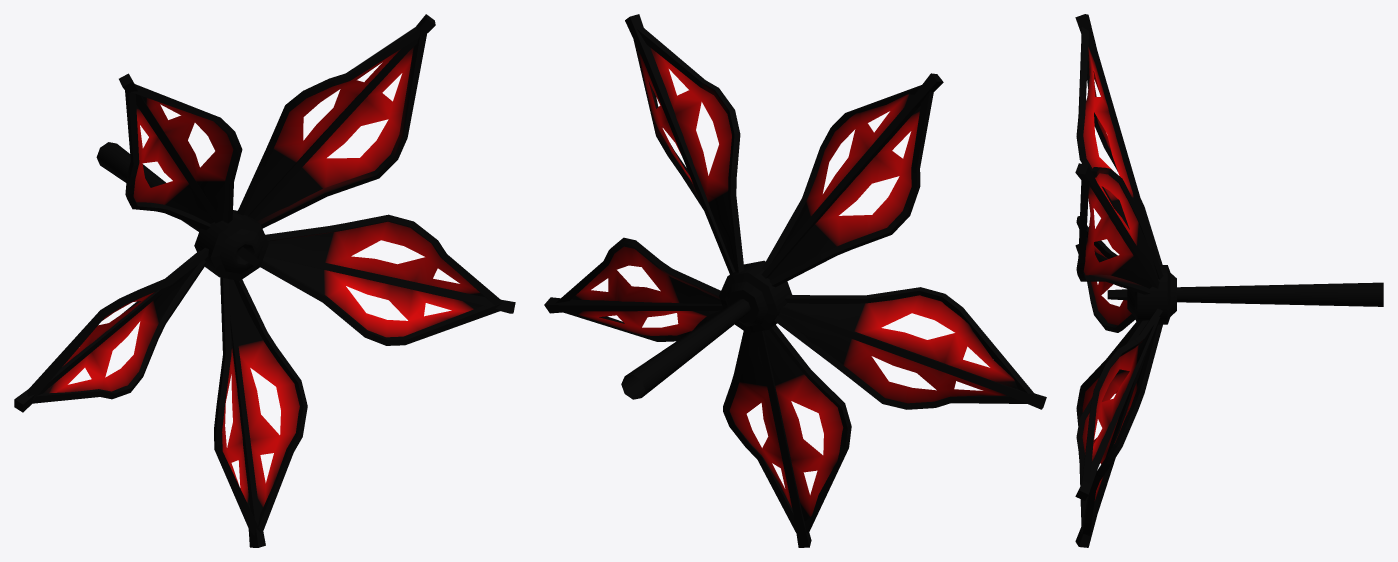
The model's file is SM_Windmill_Sails.fbx.
The picture shows the model from 3 angles, left to right: view 1: azimuth 30°, elevation 25°; view 2: azimuth 150°, elevation 25°; view 3: azimuth 270°, elevation 25°; orthographic projection. The views are drawn at different scales.
Parts seen in each view (by area): view 1: SM_Windmill_Wings; view 2: SM_Windmill_Wings; view 3: SM_Windmill_Wings.
Boxes of the visible parts, x1,y1,x2,y2 form: SM_Windmill_Wings: (14, 14, 515, 547); SM_Windmill_Wings: (544, 14, 1046, 547); SM_Windmill_Wings: (1075, 14, 1383, 547).
Bounding box in the file's own units: 451 × 436 × 257.
